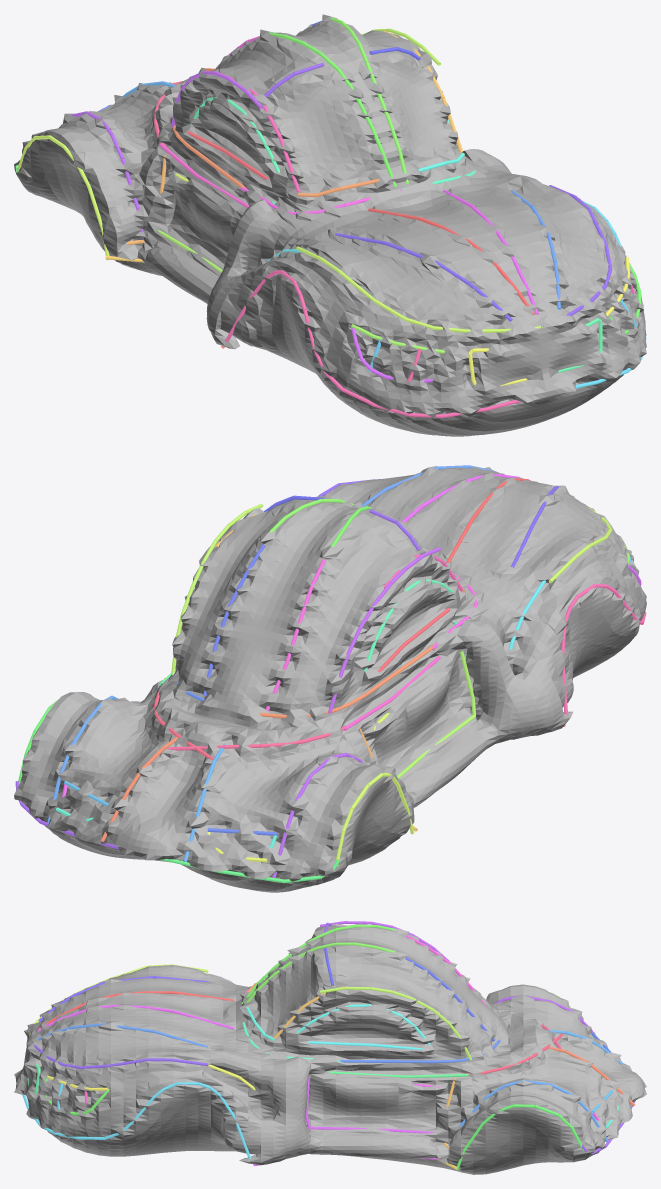
Rendered from author1_car.gltf.
3 renders of one model, top to bottom at view 1: azimuth 30°, elevation 25°; view 2: azimuth 150°, elevation 25°; view 3: azimuth 270°, elevation 25°, orthographic. The views are drawn at different scales.
Bounding box in the file's own units: 0.4297 × 0.3372 × 0.8856.
